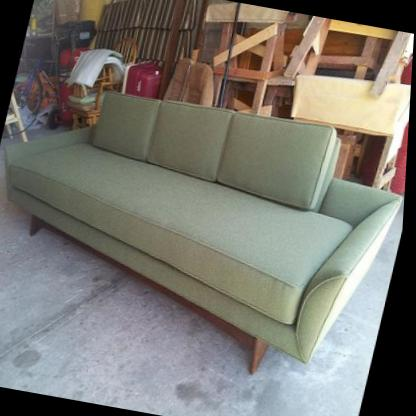Chair: (62, 27, 143, 137)
Sofa: (0, 68, 413, 397)
